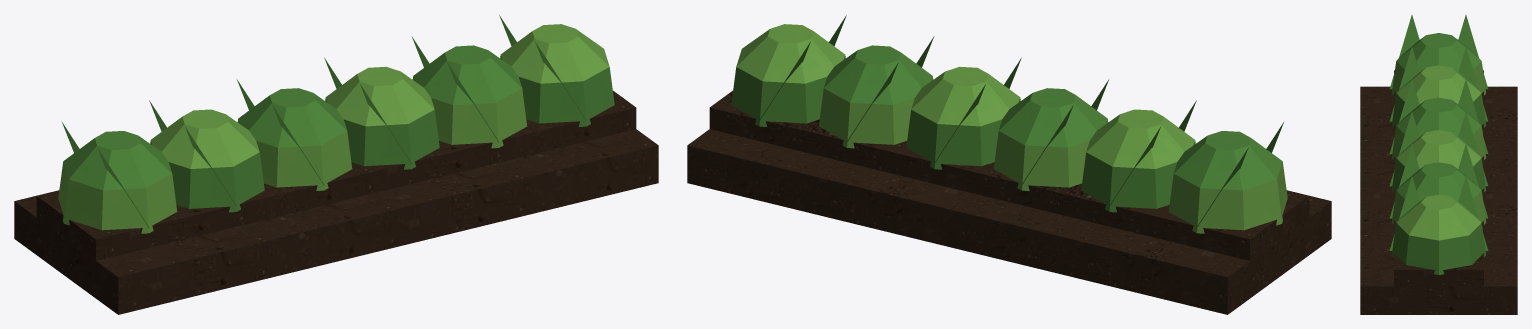
File: vegetable_row_01.glb
3 views of the same model, side by side, from view 1: azimuth 30°, elevation 25°; view 2: azimuth 150°, elevation 25°; view 3: azimuth 270°, elevation 25° (orthographic). The views are drawn at different scales.
Parts seen in each view (by area): view 1: vegetable_row_01; view 2: vegetable_row_01; view 3: vegetable_row_01.
Boxes of the visible parts, x1,y1,x2,y2 form: vegetable_row_01: [14, 15, 658, 314]; vegetable_row_01: [687, 15, 1331, 314]; vegetable_row_01: [1360, 15, 1517, 314].
Bounding box in the file's own units: 2.12 × 0.5199 × 0.7001.
Materials: 3 (3 with a texture image).
